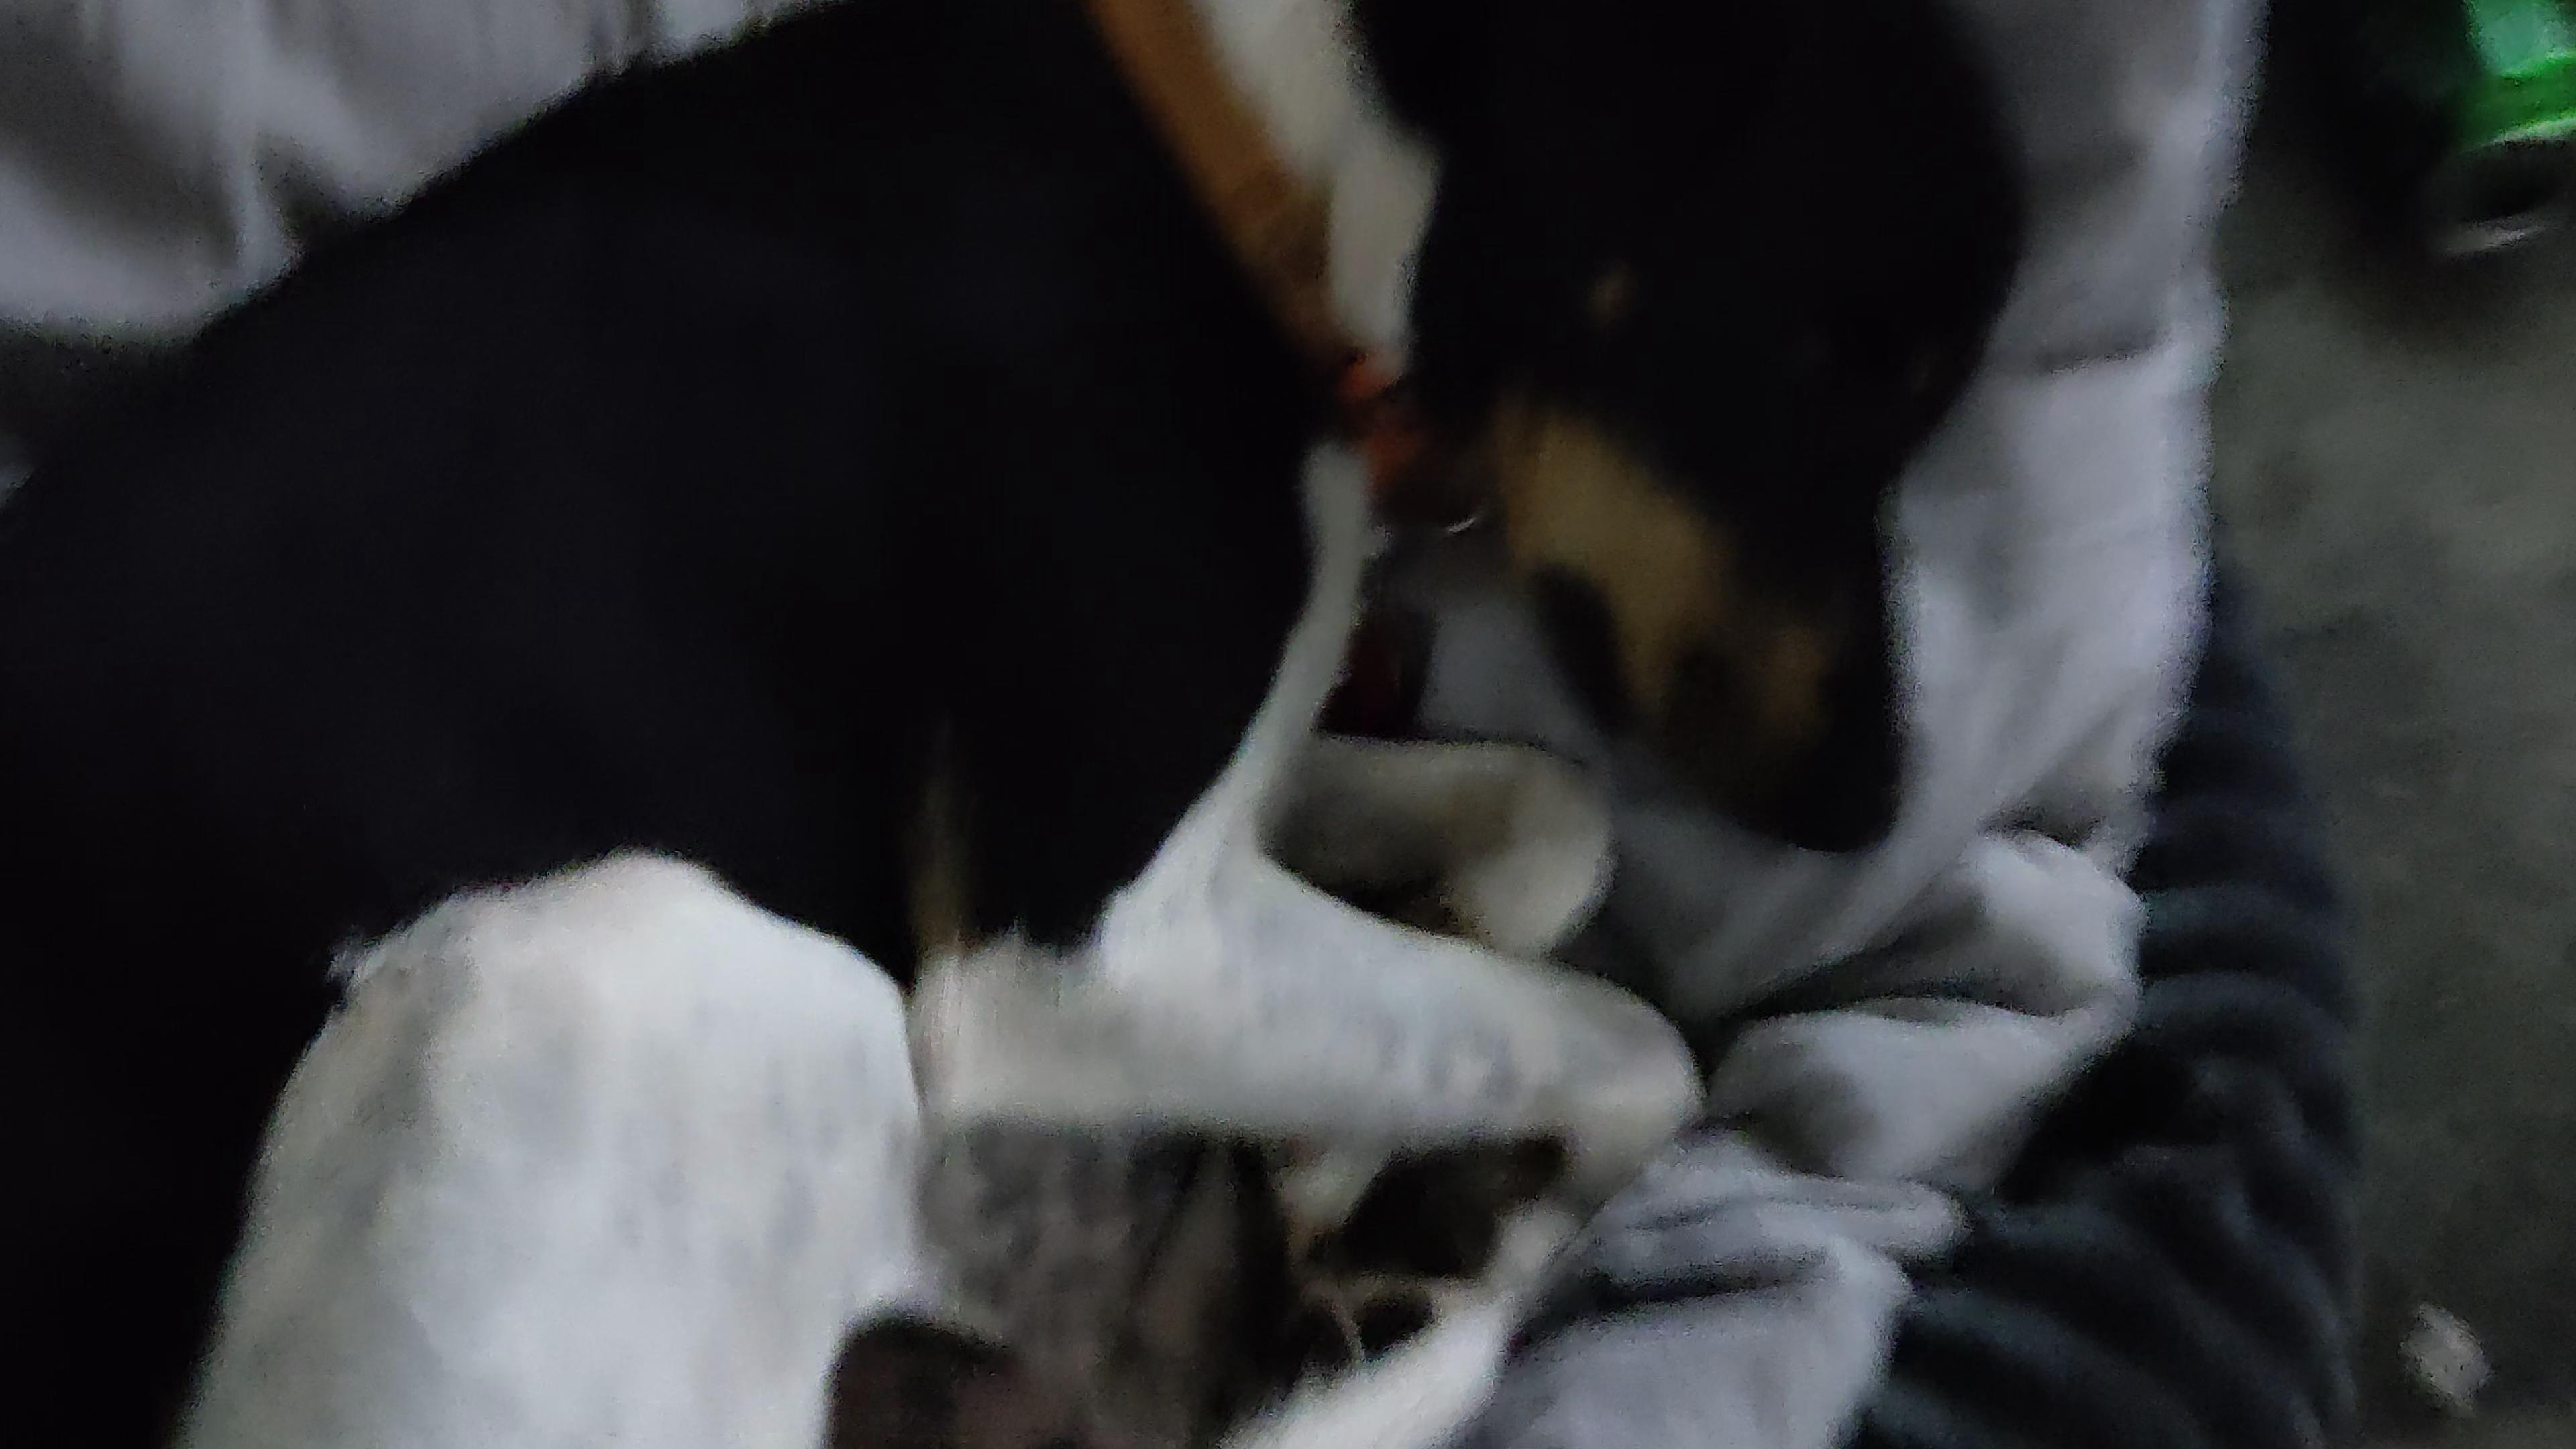Dog: (0, 0, 2065, 1449)
